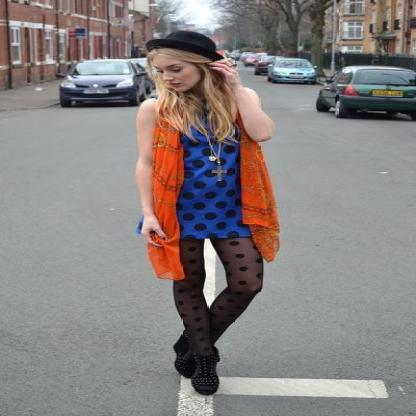dress: (175, 126, 250, 244)
hat: (146, 30, 224, 70)
shoe: (175, 358, 218, 394)
